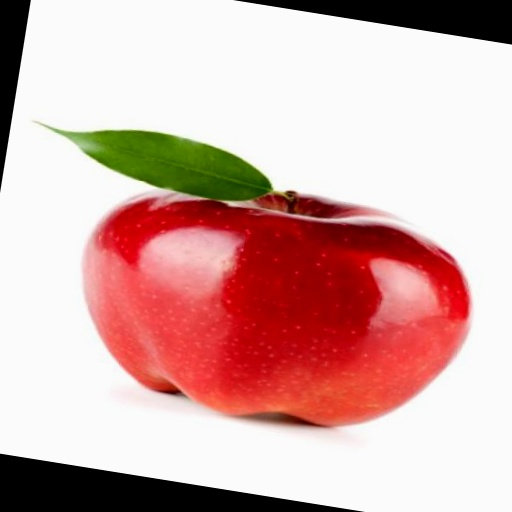fruit: (84, 191, 469, 426)
